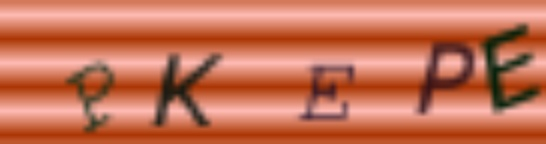E: (483, 21, 546, 115), (294, 63, 359, 123)
K: (143, 48, 227, 133)
P: (412, 40, 477, 119), (63, 60, 118, 131)
